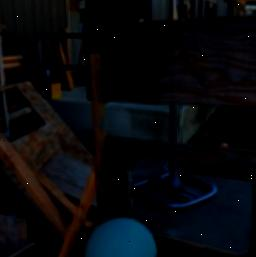algae: (88, 215, 156, 257)
